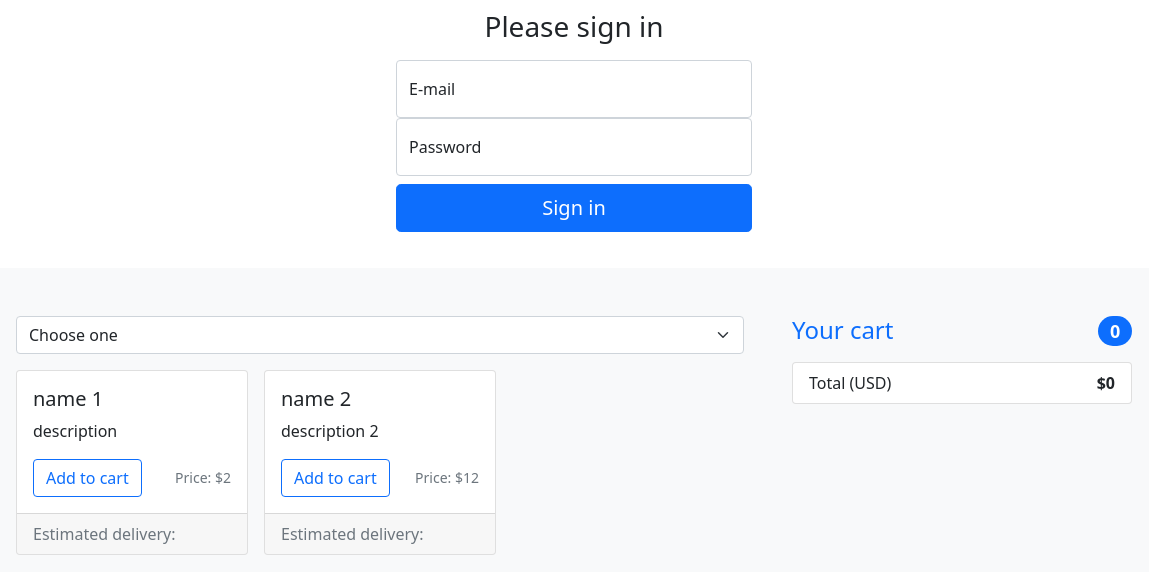
Test case: Home component › Adding to cart
Expected: the text with test id "badge" reads "0", [1110, 319, 1120, 343]
Click the button with test id "addToCart" below "name 1".
click(87, 478)  # box [33, 459, 142, 497]
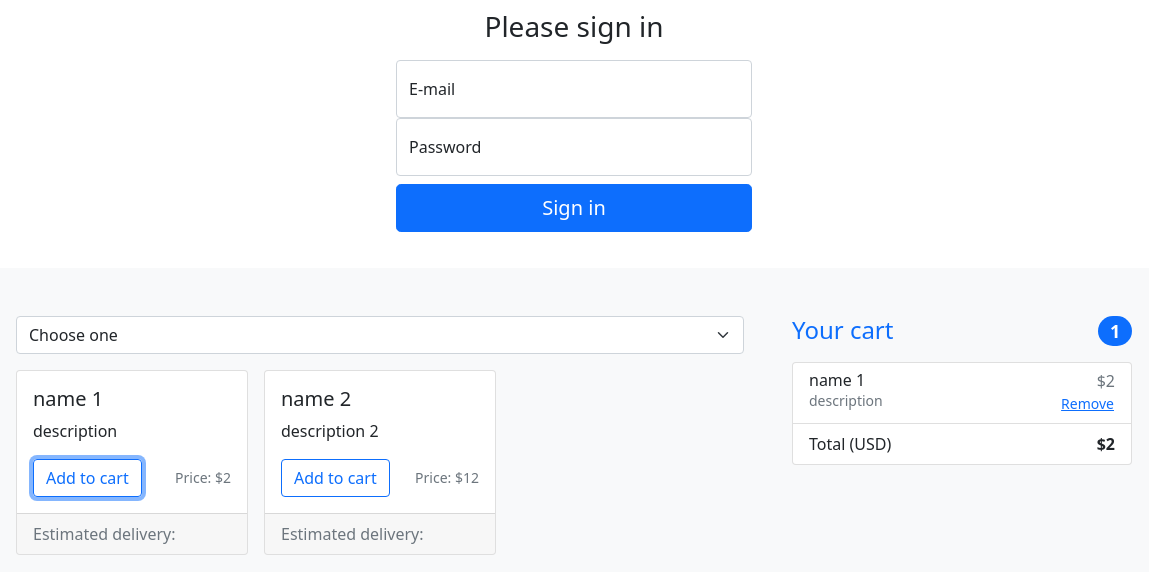
Click the button with test id "addToCart" in the row of "12".
click(335, 478)  # box [281, 459, 390, 497]
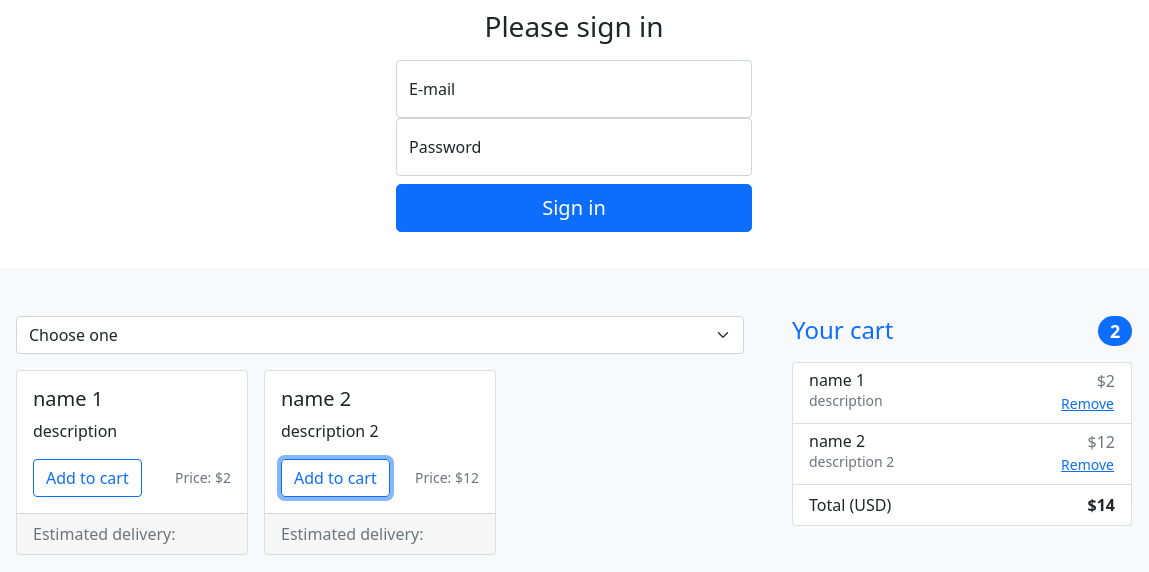
Expected: the text with test id "badge" reads "2", [1110, 319, 1120, 343]
Expected: the text with test id "cartTotal" shows "14", [1097, 494, 1115, 516]
